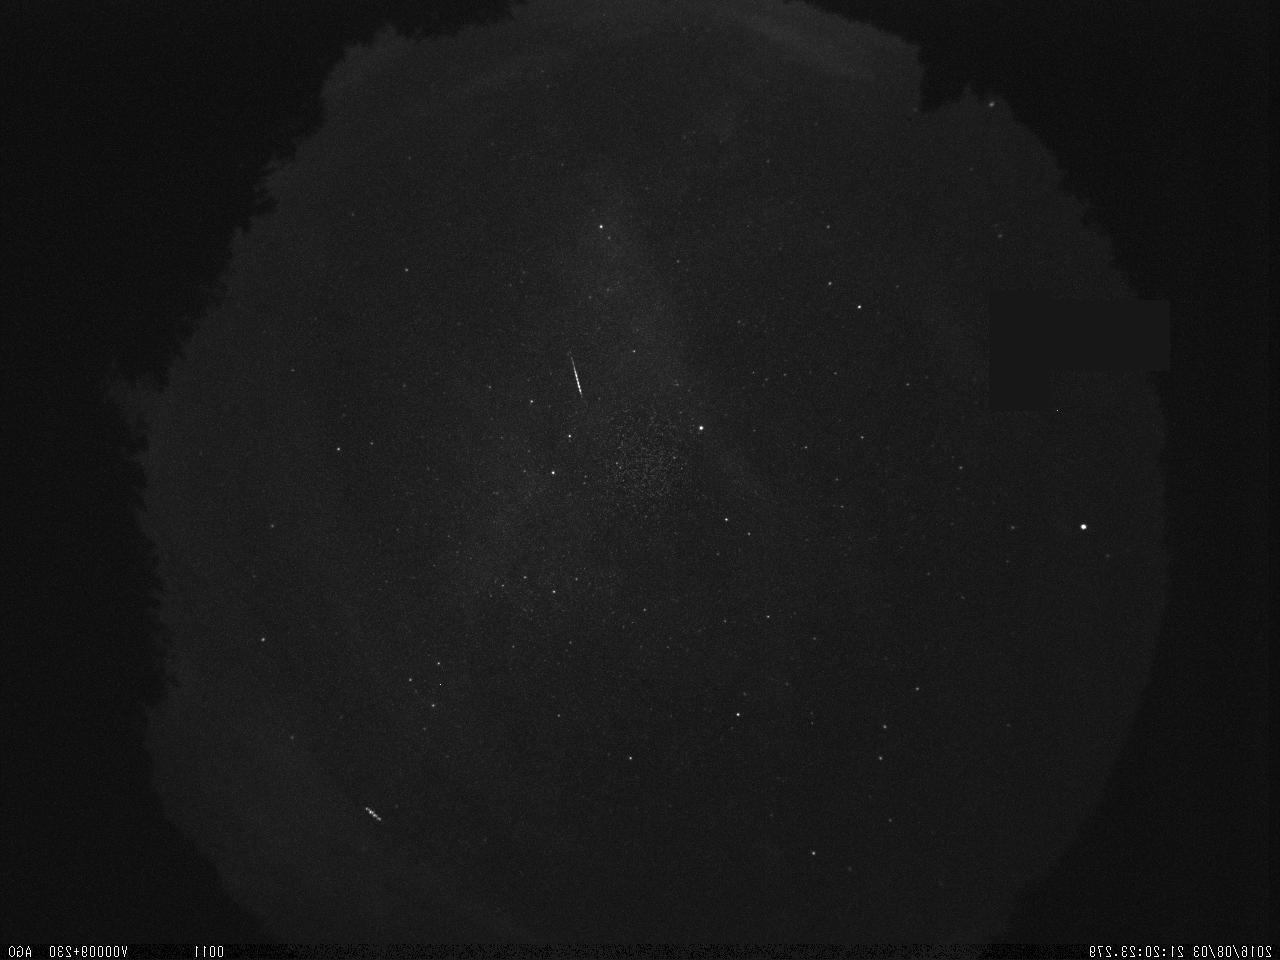meteor: (561, 343, 591, 407)
